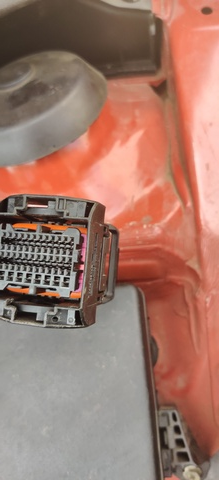connector: (1, 194, 109, 329)
